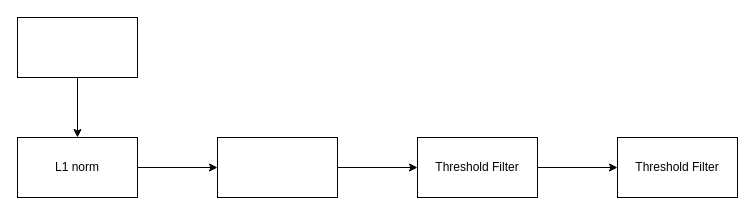
Some shapes in this 755 by 215 pixel diagram are drawn without their labels. The centre of each missing label's shape, as x and y in pixels:
"Inertial measurement unit" goes at point (77, 47).
"Low Pass Filter" goes at point (277, 167).
